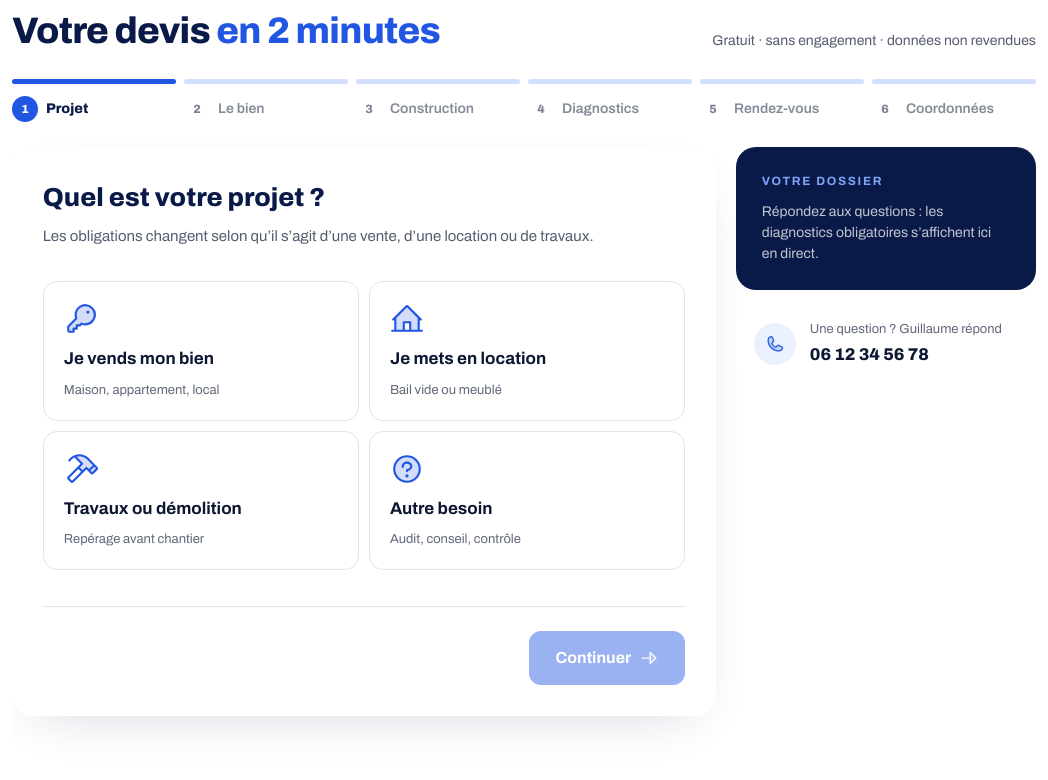
Test: DevisWizard › impossible d’avancer sans réponse
Check: the button "Continuer" is disabled, box [530,631,685,685]
Click the button "Je vends mon bien Maison, appartement, local": (201, 351) [43,281,359,421]
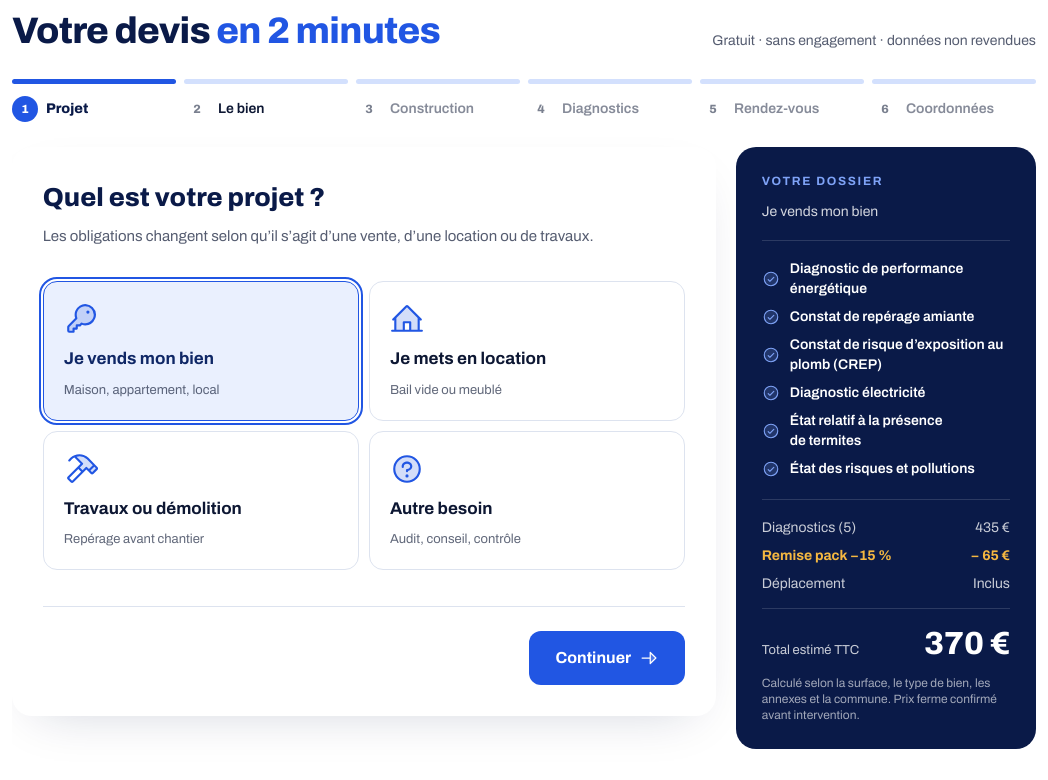
Check: the button "Continuer" is enabled, box [530,631,685,685]
